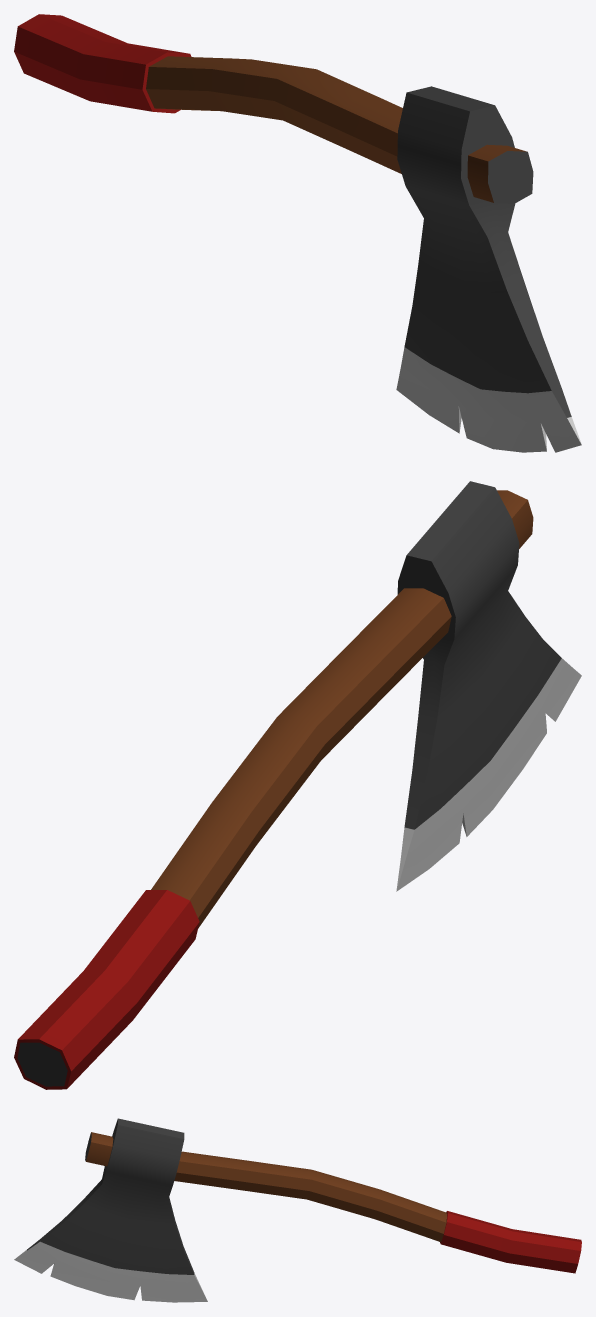
File: Axe.fbx
The picture shows the model from 3 angles, top to bottom: view 1: azimuth 30°, elevation 25°; view 2: azimuth 150°, elevation 25°; view 3: azimuth 270°, elevation 25°; orthographic projection. The views are drawn at different scales.
Visible parts, largest first — view 1: Axe.003; view 2: Axe.003; view 3: Axe.003.
Part boxes in pixels (x1,y1,x2,y2): Axe.003: [14, 14, 581, 452]; Axe.003: [14, 481, 581, 1089]; Axe.003: [14, 1118, 581, 1302].
Bounding box in the file's own units: 0.3156 × 1.78 × 5.07.
